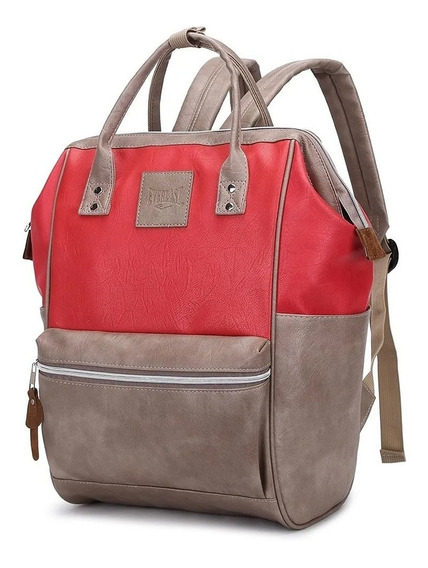cartera: (21, 22, 408, 531)
